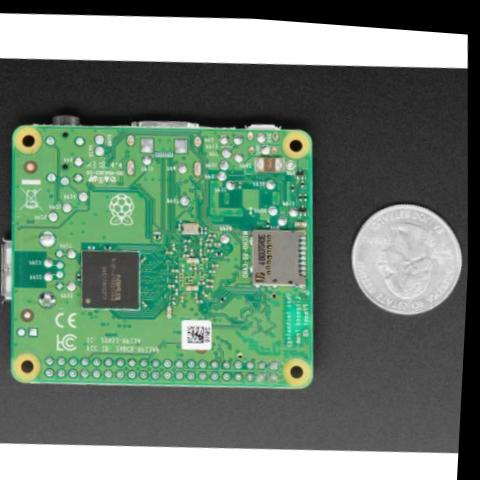Raspberry-Pi-3-Model-A-: (0, 89, 336, 410)
